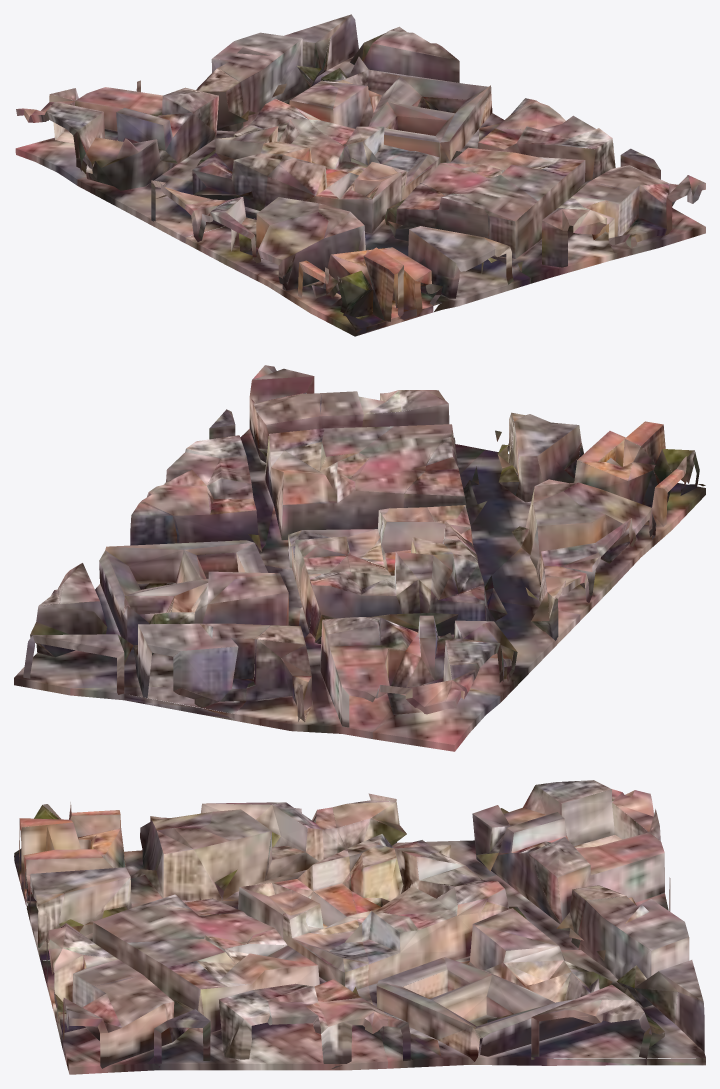
The picture shows the model from 3 angles, top to bottom: view 1: azimuth 30°, elevation 25°; view 2: azimuth 150°, elevation 25°; view 3: azimuth 270°, elevation 25°; orthographic projection. The views are drawn at different scales.
Visible parts, largest first — view 1: Mesh_0; view 2: Mesh_0; view 3: Mesh_0.
Boxes of the visible parts, <box> form: Mesh_0: <box>15,14,705,336</box>; Mesh_0: <box>14,365,705,751</box>; Mesh_0: <box>14,780,705,1074</box>.
Size of the model in its own units: 267 by 49.36 by 330.
Materials: 2 (2 with a texture image).
